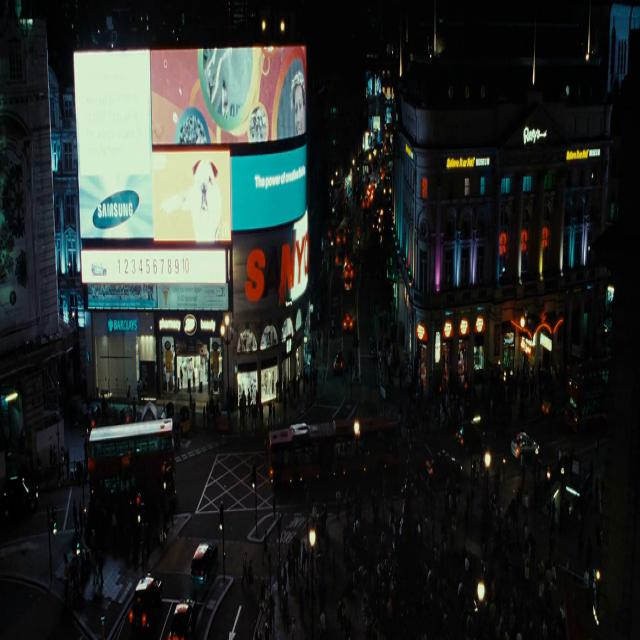Bus: (265, 412, 410, 480), (84, 414, 189, 494), (569, 354, 622, 400)
car: (124, 551, 169, 640), (188, 526, 219, 599), (169, 579, 194, 640), (361, 170, 381, 241), (333, 344, 353, 402), (513, 421, 537, 462), (337, 290, 359, 329), (341, 248, 357, 295)
